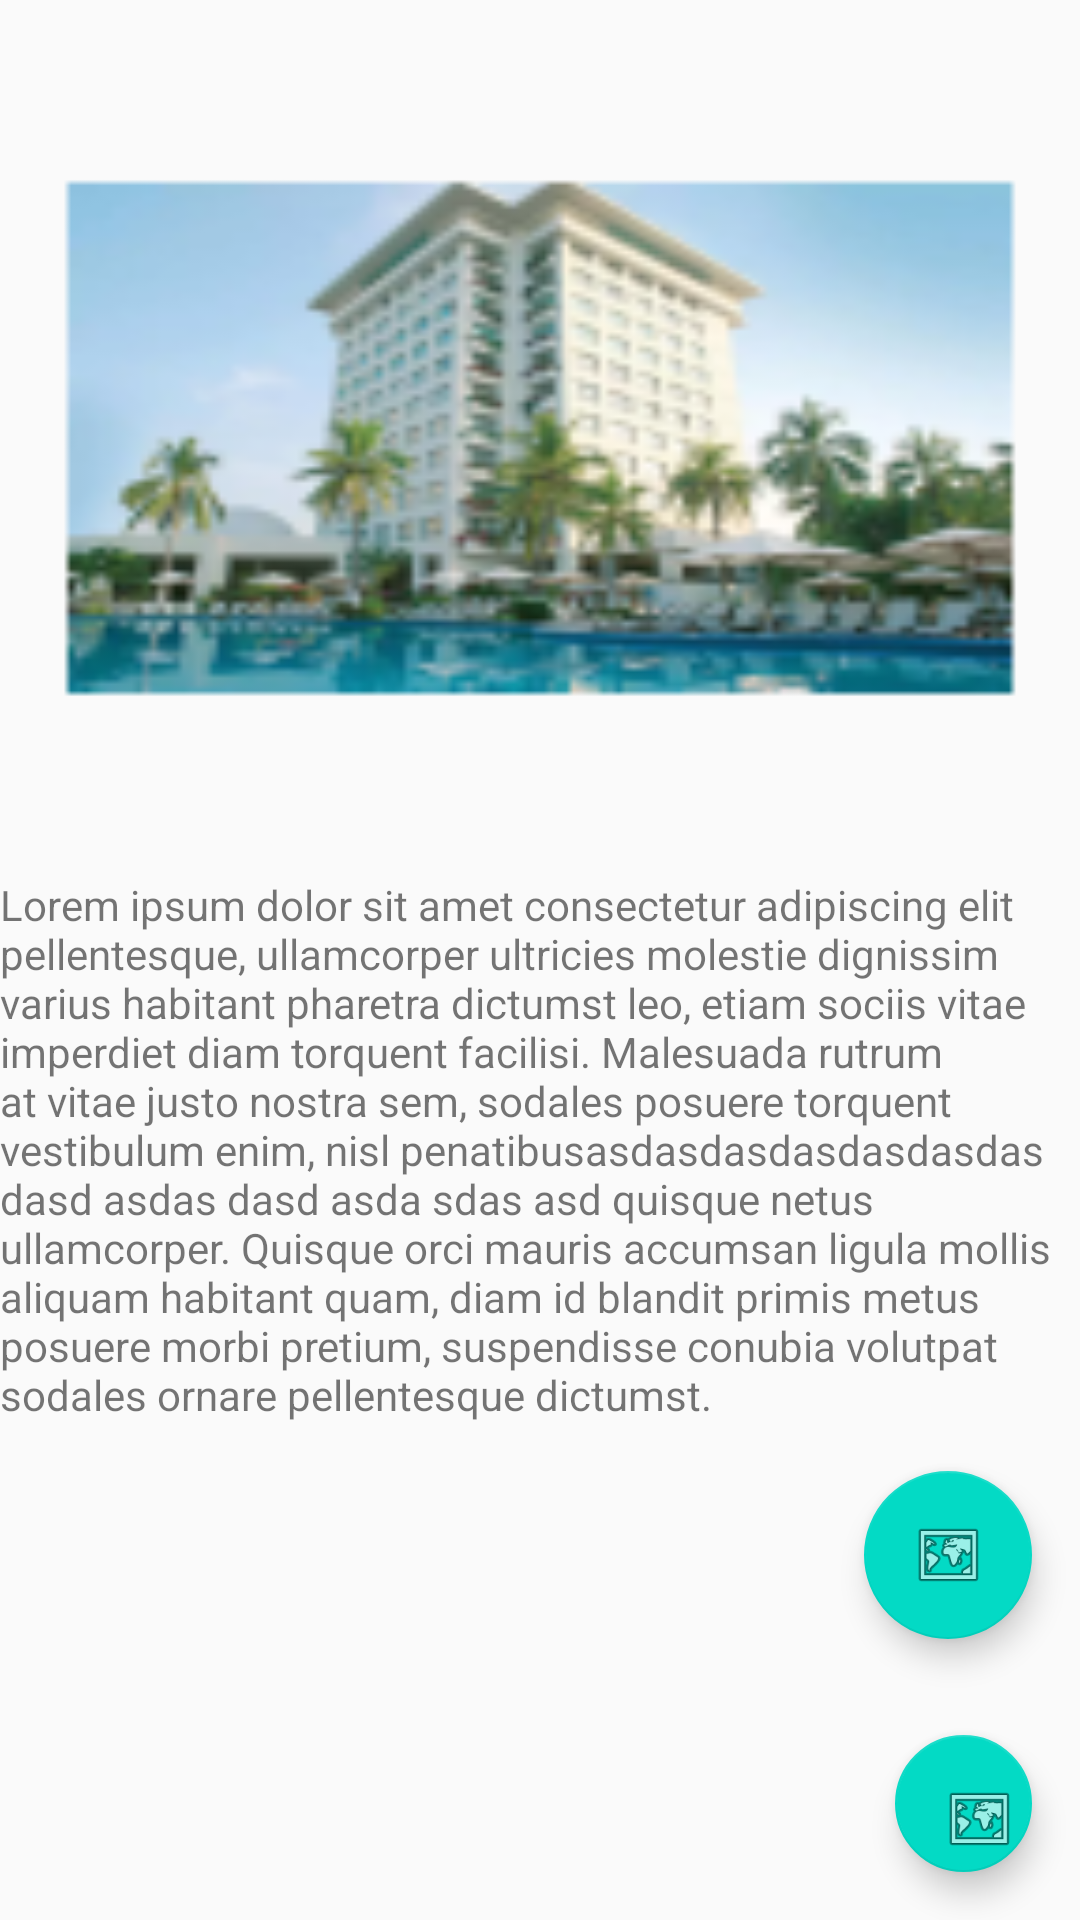

Screen size 1080×1920. Icon name, then its box in pixels as (x1, y1, x2, y2):
mapmode: (864, 1471, 1032, 1639), (895, 1735, 1032, 1872)
